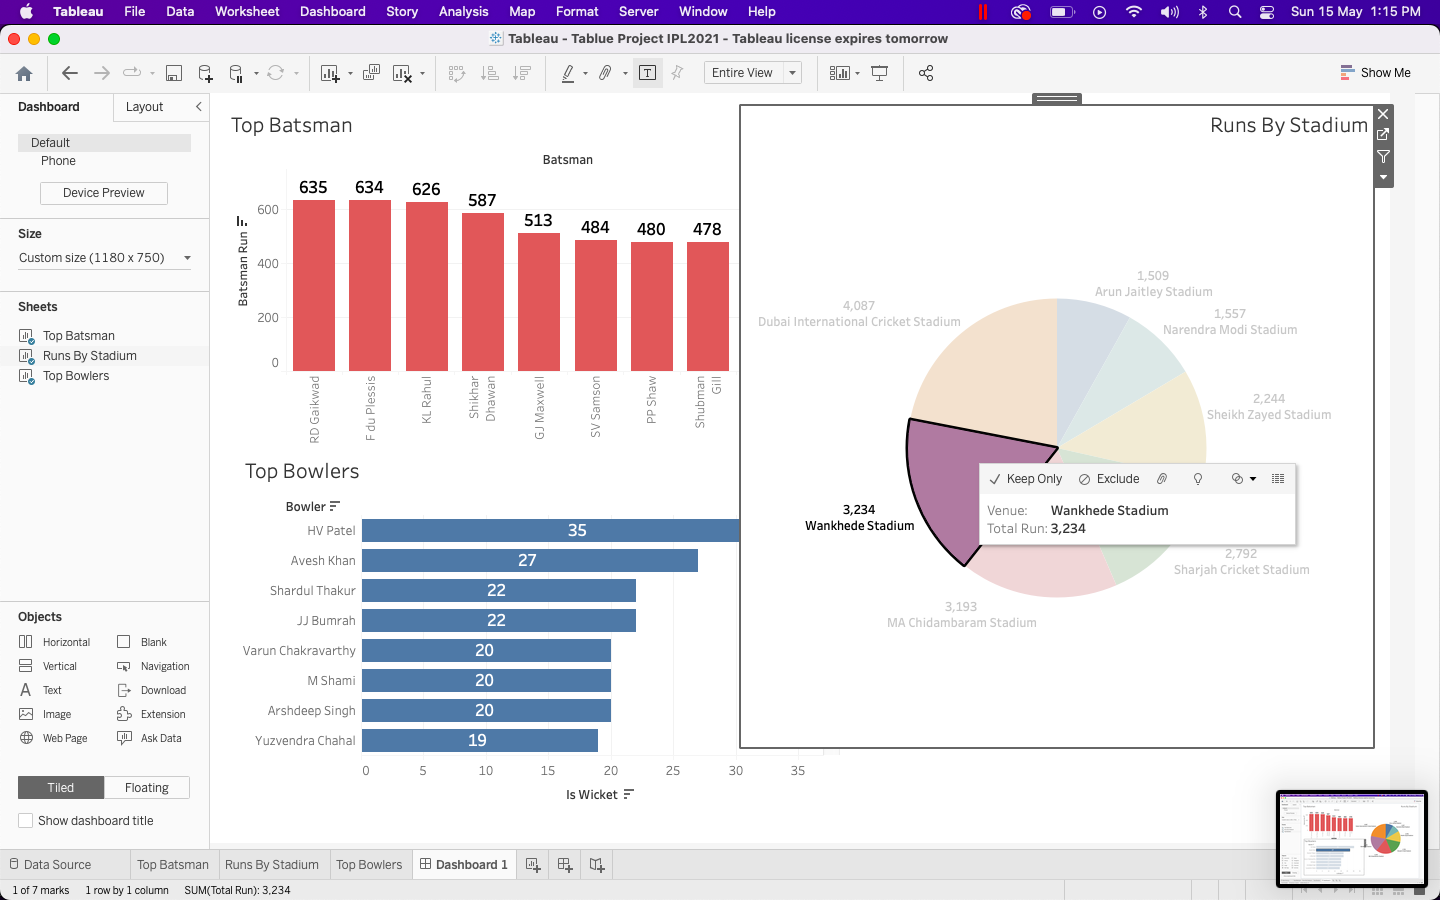

Layout of this report page (visuals, bound fields, positions):
{"tool":"tableau","page":{"name":"Dashboard 1","canvas":[1180,750],"ordinal":0},"visuals":[{"type":"worksheet","title":"Top Batsman","mark":"Automatic","rows":["batsman_run"],"cols":["batsman"],"box":[17,13,622,339]},{"type":"worksheet","title":"Runs By Stadium","mark":"Pie","box":[531,13,632,641]},{"type":"worksheet","title":"Top Bowlers","mark":"Automatic","rows":["bowler"],"cols":["is_wicket"],"box":[31,359,599,358]}]}

Visuals, with their boxes in screenshot pixels (x1, y1, x2, y2):
"Top Batsman" worksheet: [x1=13, y1=23, x2=749, y2=424]
"Runs By Stadium" worksheet (Pie marks): [x1=621, y1=23, x2=1369, y2=781]
"Top Bowlers" worksheet: [x1=29, y1=432, x2=738, y2=856]
